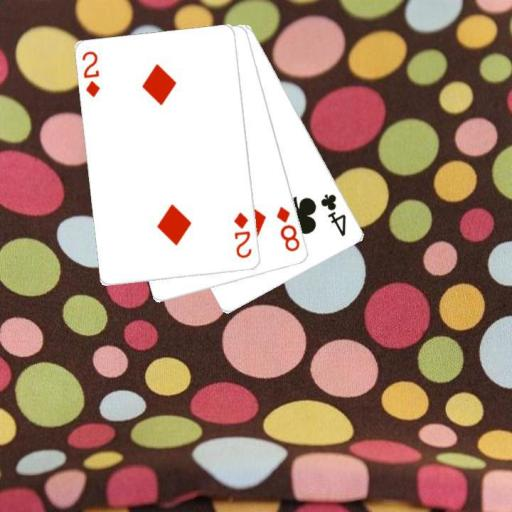2D: (231, 209, 254, 260), (79, 48, 102, 99)
4C: (317, 191, 349, 238)
8D: (274, 203, 301, 254)
